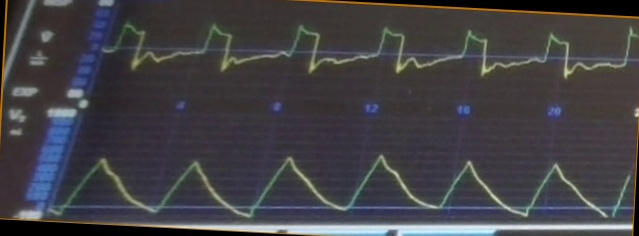Premature_cycling Flow: (112, 17, 639, 97)
Premature_cycling Volume: (65, 151, 632, 220)
